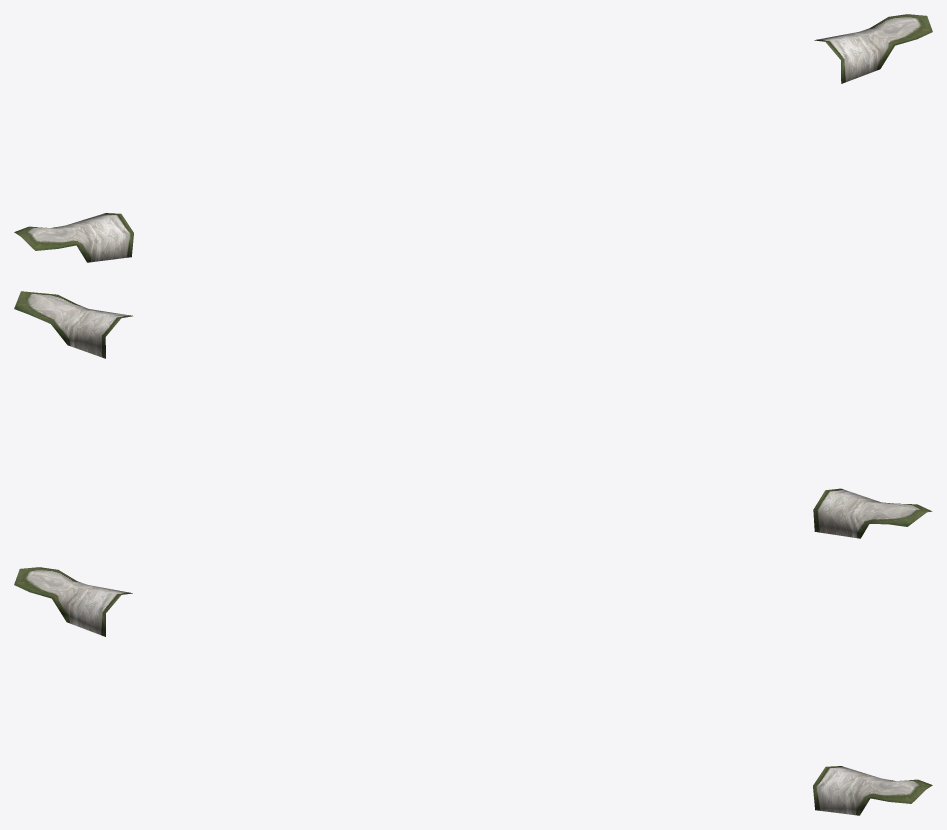
3 views of the same model, one above another, from view 1: azimuth 30°, elevation 25°; view 2: azimuth 150°, elevation 25°; view 3: azimuth 330°, elevation 25° (orthographic).
Parts seen in each view (by area): view 1: clothes_01_aa; view 2: clothes_01_aa; view 3: clothes_01_aa.
Part boxes in pixels (x1,y1,x2,y2): clothes_01_aa: [14, 14, 932, 262]; clothes_01_aa: [14, 291, 932, 538]; clothes_01_aa: [14, 567, 932, 815].
Bounding box in the file's own units: 1.58 × 0.0738 × 0.0873.
Materials: 1 (1 with a texture image).
